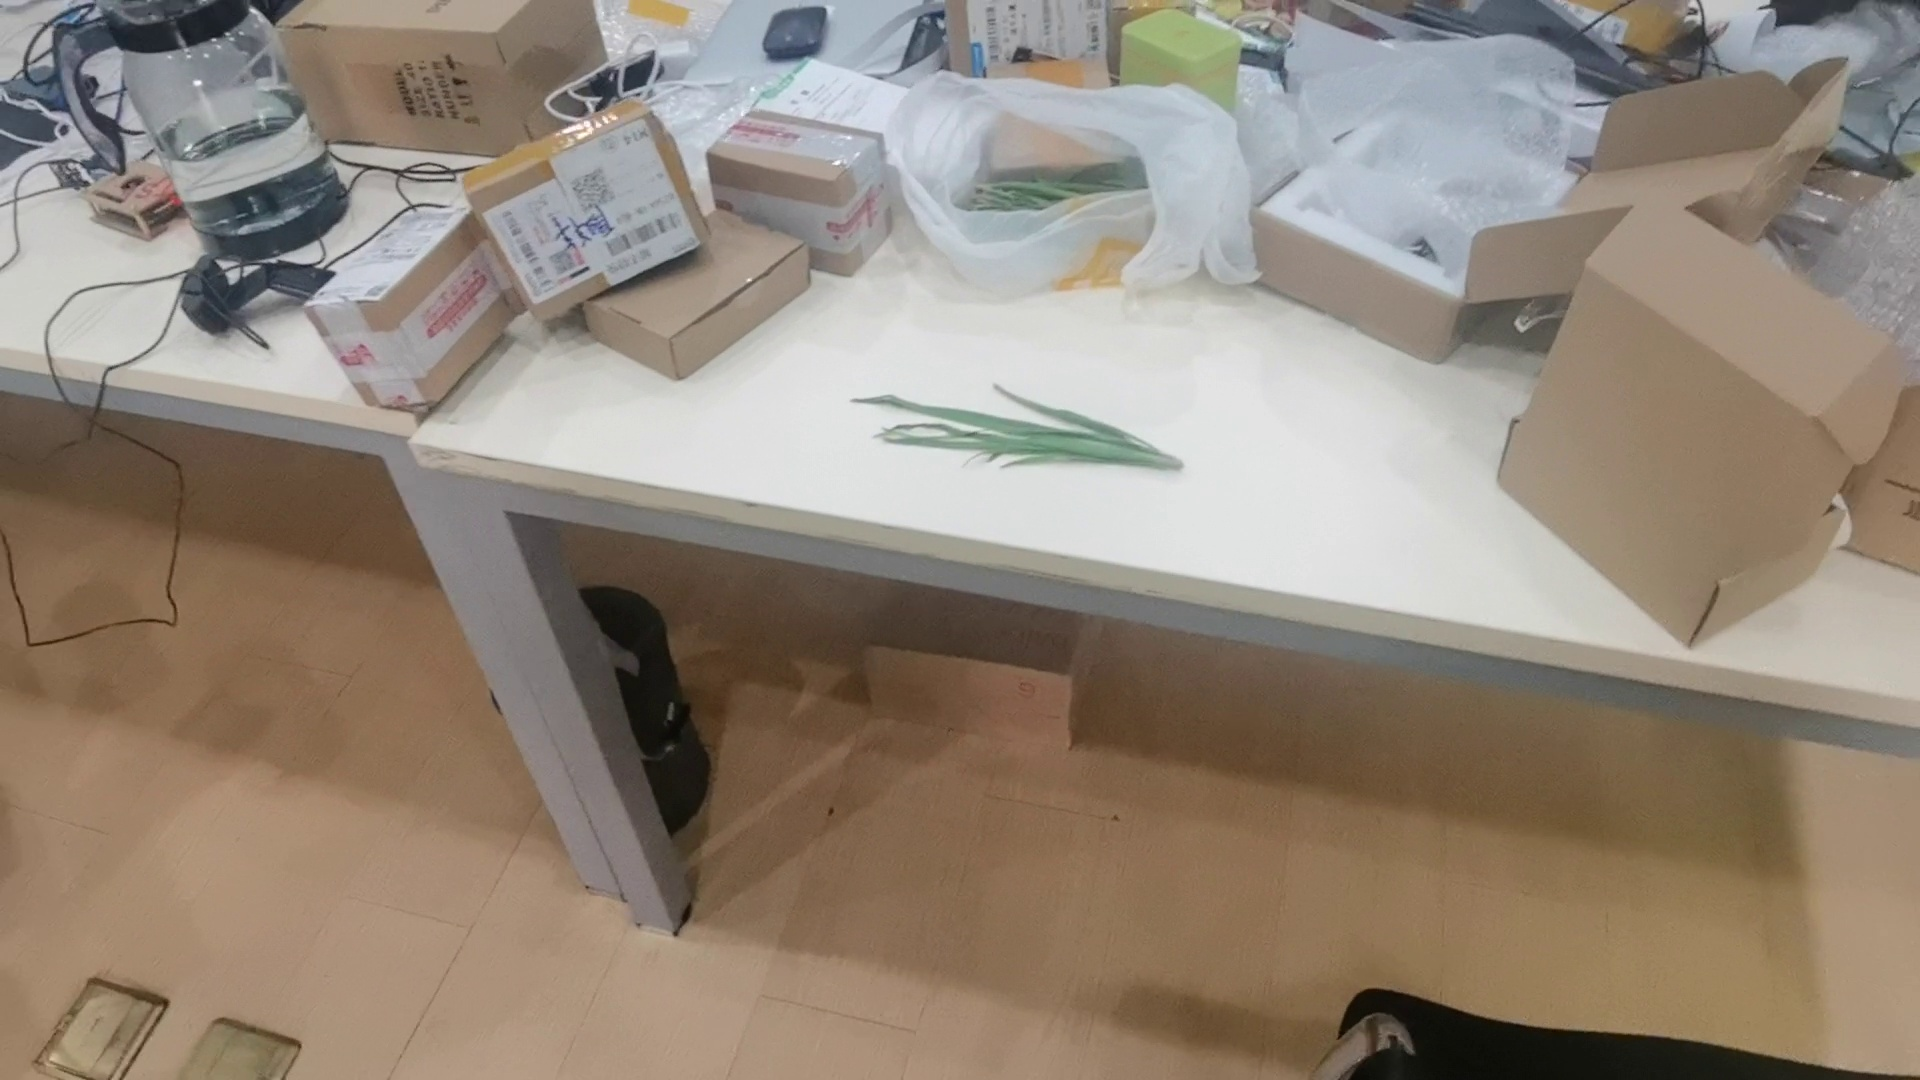chives: (847, 381, 1188, 472)
